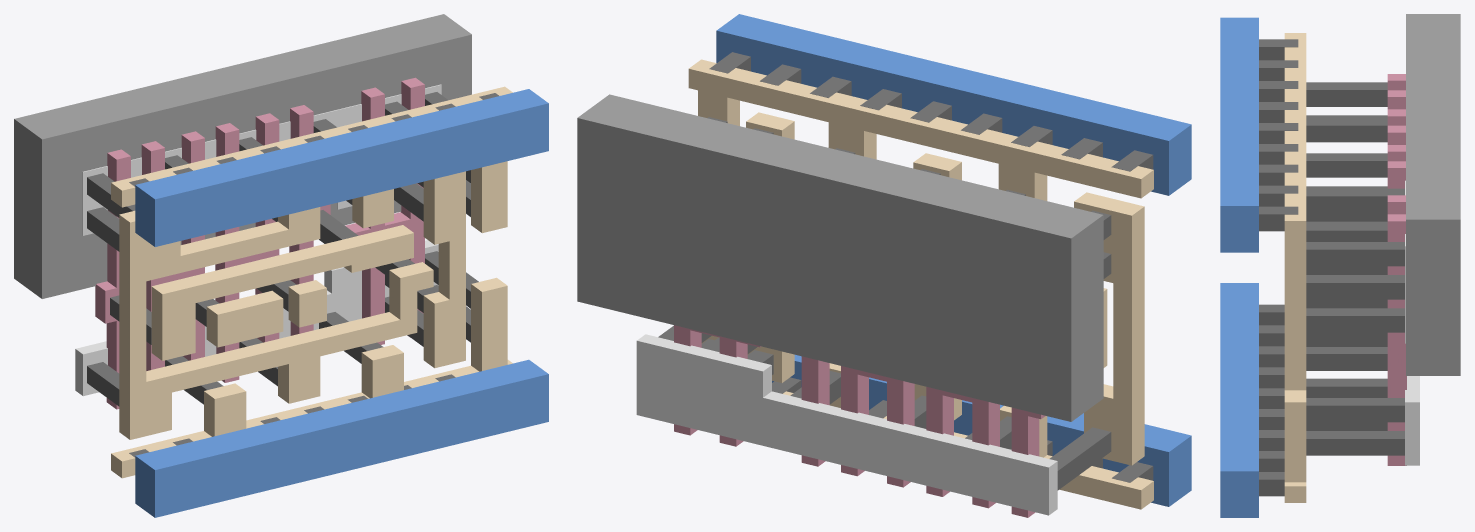
Rendered from sky130_fd_sc_hd__maj3_2.gds.gltf.
3 renders of one model, left to right at view 1: azimuth 30°, elevation 25°; view 2: azimuth 150°, elevation 25°; view 3: azimuth 270°, elevation 25°, orthographic. The views are drawn at different scales.
Parts seen in each view (by area): view 1: sky130_fd_sc_hd__maj3_2_li1, sky130_fd_sc_hd__maj3_2_met1, sky130_fd_sc_hd__maj3_2_nwell, sky130_fd_sc_hd__maj3_2_poly, sky130_fd_sc_hd__maj3_2_licon, sky130_fd_sc_hd__maj3_2_diff, sky130_fd_sc_hd__maj3_2_mcon; view 2: sky130_fd_sc_hd__maj3_2_nwell, sky130_fd_sc_hd__maj3_2_li1, sky130_fd_sc_hd__maj3_2_met1, sky130_fd_sc_hd__maj3_2_diff, sky130_fd_sc_hd__maj3_2_poly, sky130_fd_sc_hd__maj3_2_mcon, sky130_fd_sc_hd__maj3_2_licon; view 3: sky130_fd_sc_hd__maj3_2_licon, sky130_fd_sc_hd__maj3_2_nwell, sky130_fd_sc_hd__maj3_2_met1, sky130_fd_sc_hd__maj3_2_mcon, sky130_fd_sc_hd__maj3_2_li1, sky130_fd_sc_hd__maj3_2_poly, sky130_fd_sc_hd__maj3_2_diff.
Boxes of the visible parts, <box> form: sky130_fd_sc_hd__maj3_2_li1: <box>111,86,512,478</box>; sky130_fd_sc_hd__maj3_2_met1: <box>135,89,548,517</box>; sky130_fd_sc_hd__maj3_2_nwell: <box>14,14,471,298</box>; sky130_fd_sc_hd__maj3_2_poly: <box>95,77,424,409</box>; sky130_fd_sc_hd__maj3_2_licon: <box>87,92,478,406</box>; sky130_fd_sc_hd__maj3_2_diff: <box>75,84,441,396</box>; sky130_fd_sc_hd__maj3_2_mcon: <box>129,93,498,457</box>; sky130_fd_sc_hd__maj3_2_nwell: <box>577,94,1103,421</box>; sky130_fd_sc_hd__maj3_2_li1: <box>688,59,1153,509</box>; sky130_fd_sc_hd__maj3_2_met1: <box>716,14,1191,506</box>; sky130_fd_sc_hd__maj3_2_diff: <box>636,334,1057,515</box>; sky130_fd_sc_hd__maj3_2_poly: <box>674,325,1045,517</box>; sky130_fd_sc_hd__maj3_2_mcon: <box>709,52,1153,482</box>; sky130_fd_sc_hd__maj3_2_licon: <box>658,117,1111,490</box>; sky130_fd_sc_hd__maj3_2_licon: <box>1306,82,1404,455</box>; sky130_fd_sc_hd__maj3_2_nwell: <box>1406,14,1460,375</box>; sky130_fd_sc_hd__maj3_2_met1: <box>1220,17,1258,517</box>; sky130_fd_sc_hd__maj3_2_mcon: <box>1259,39,1298,496</box>; sky130_fd_sc_hd__maj3_2_li1: <box>1284,33,1306,502</box>; sky130_fd_sc_hd__maj3_2_poly: <box>1387,74,1406,465</box>; sky130_fd_sc_hd__maj3_2_diff: <box>1405,180,1419,465</box>.
Bounding box in the file's own units: 4.52 × 3.2 × 2.24.
